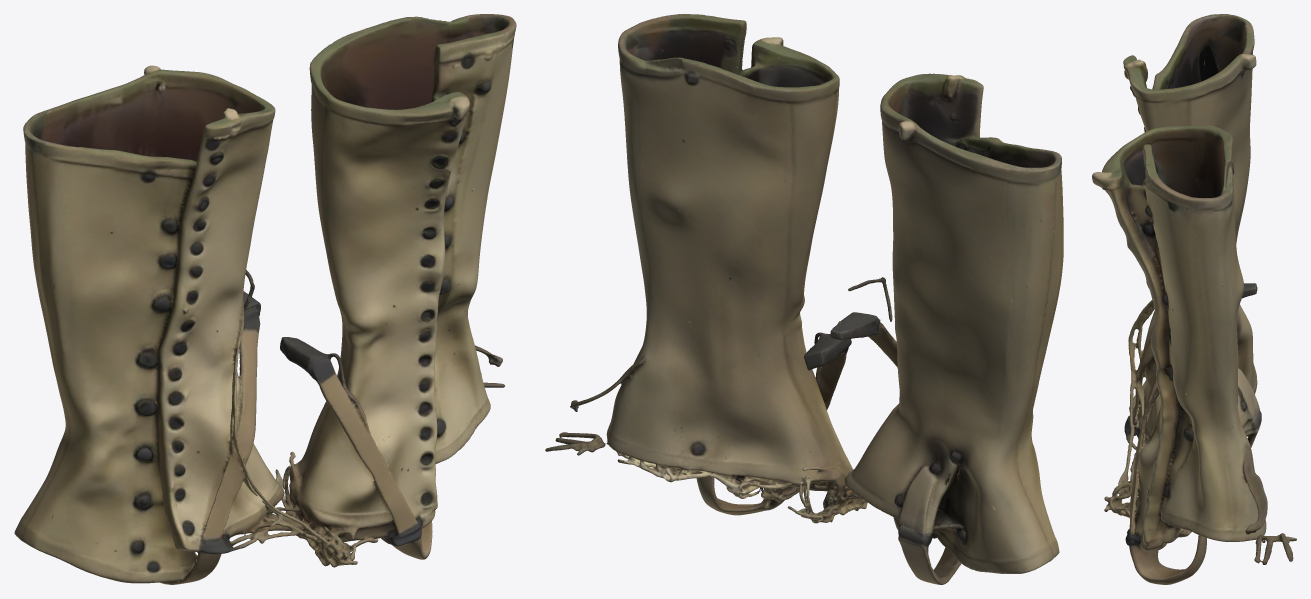
The model's file is Canvas.glb.
The picture shows the model from 3 angles, left to right: view 1: azimuth 30°, elevation 25°; view 2: azimuth 150°, elevation 25°; view 3: azimuth 270°, elevation 25°; orthographic projection. The views are drawn at different scales.
Bounding box in the file's own units: 2 × 1.95 × 0.8166.
1 material, 1 textured.
